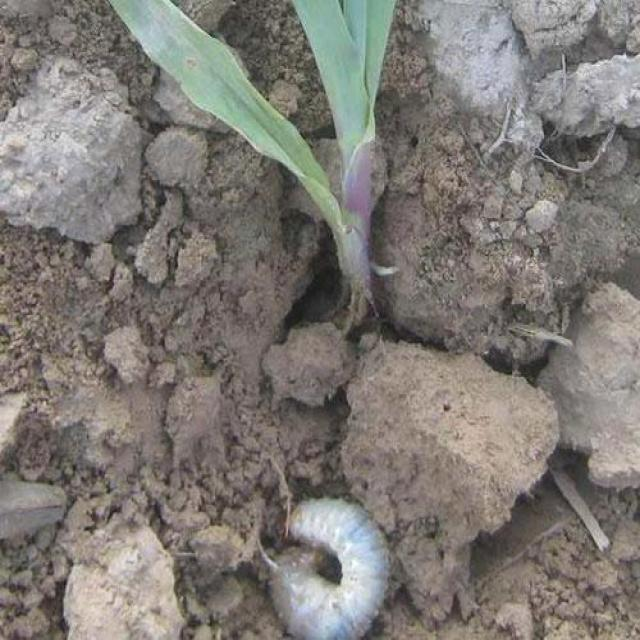Grub-Adult-: (254, 499, 394, 638)
